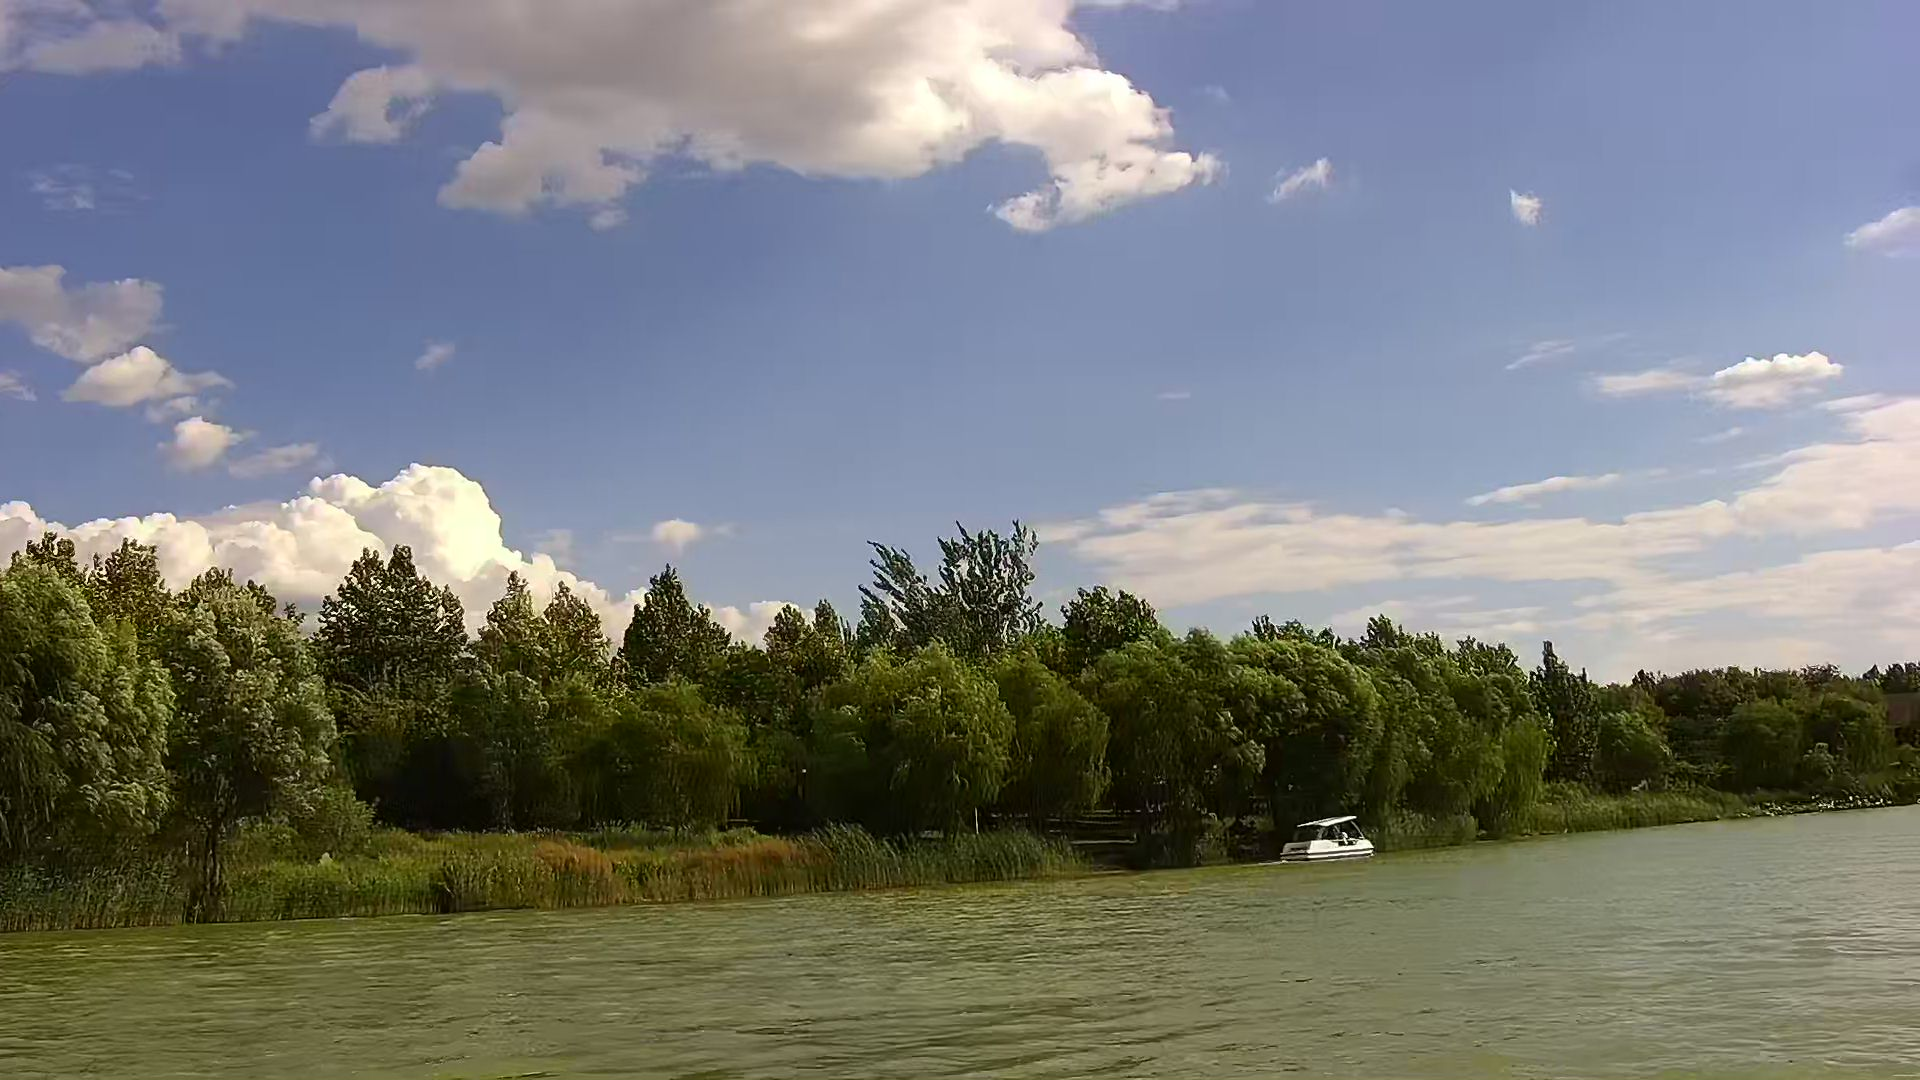boat: (1280, 814, 1373, 865)
